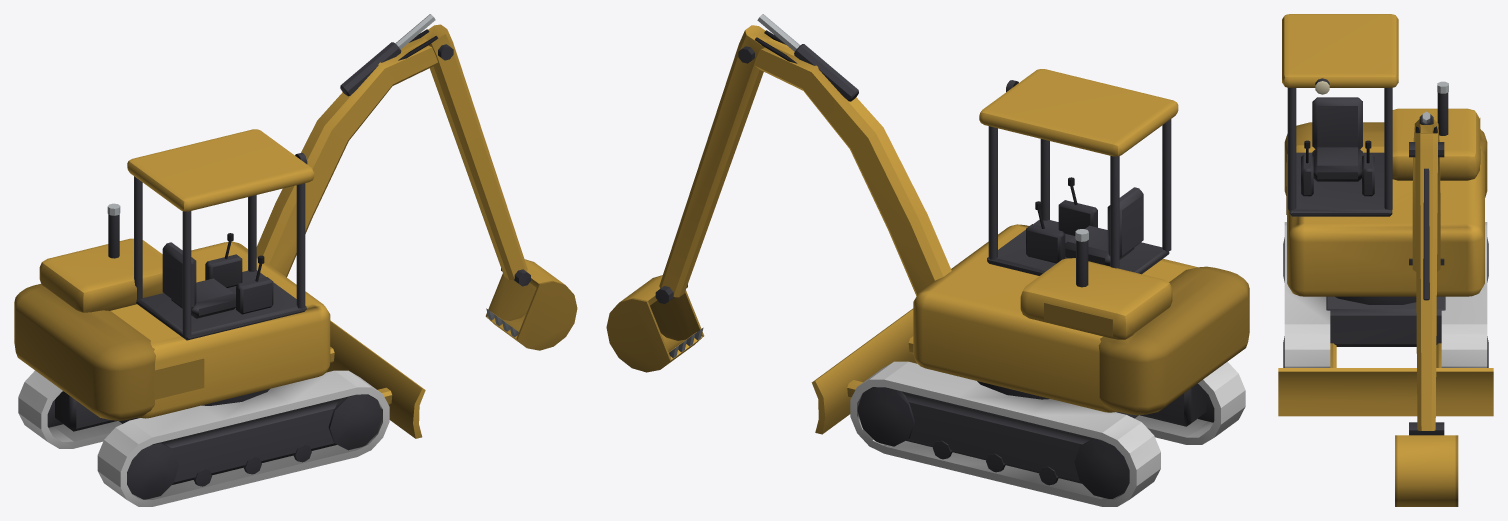
Rendered from Digger.fbx.
3 renders of one model, left to right at view 1: azimuth 30°, elevation 25°; view 2: azimuth 150°, elevation 25°; view 3: azimuth 270°, elevation 25°, orthographic. The views are drawn at different scales.
Visible parts, largest first — view 1: Digger; view 2: Digger; view 3: Digger.
Part boxes in pixels (x1=…): Digger: x1=14, y1=14, x2=577, y2=506; Digger: x1=606, y1=14, x2=1249, y2=506; Digger: x1=1278, y1=14, x2=1493, y2=506.
Size of the model in its own units: 4.76 by 3.06 by 1.7.
